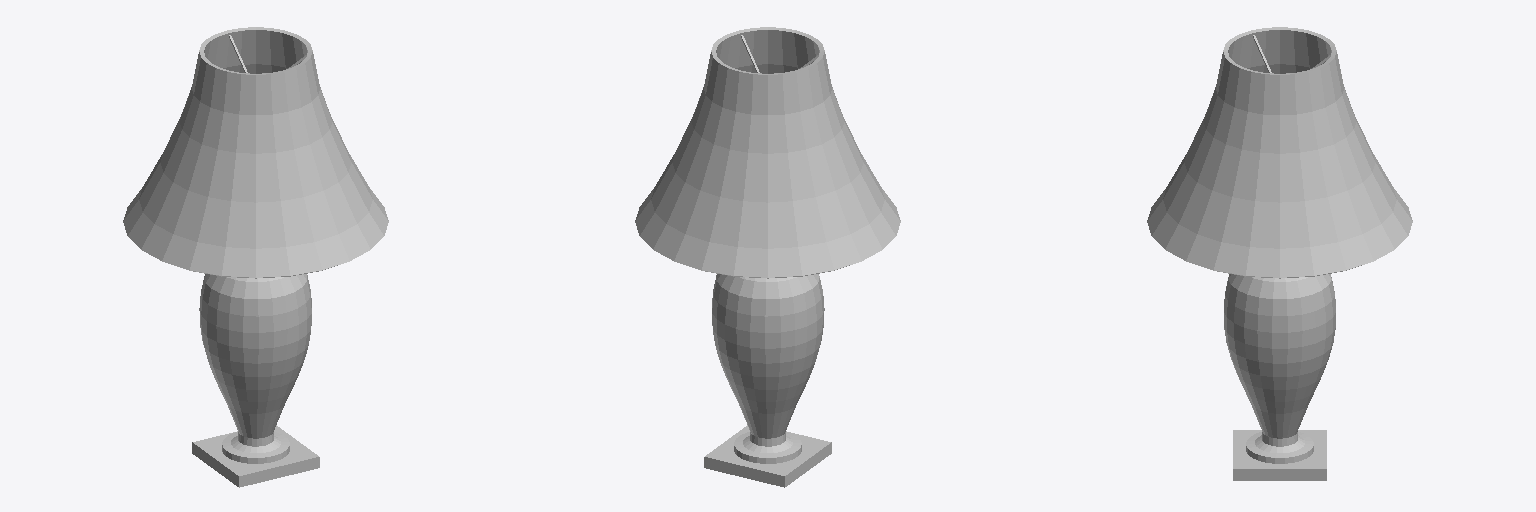
File: lamp.obj
3 renders of one model, left to right at view 1: azimuth 30°, elevation 25°; view 2: azimuth 150°, elevation 25°; view 3: azimuth 270°, elevation 25°, orthographic.
Visible parts, largest first — view 1: Lamp:Mesh; view 2: Lamp:Mesh; view 3: Lamp:Mesh.
Boxes of the visible parts, <box> form: Lamp:Mesh: <box>123,27,388,487</box>; Lamp:Mesh: <box>635,27,900,487</box>; Lamp:Mesh: <box>1147,27,1412,480</box>.
Bounding box in the file's own units: 27.45 × 46.69 × 27.45.